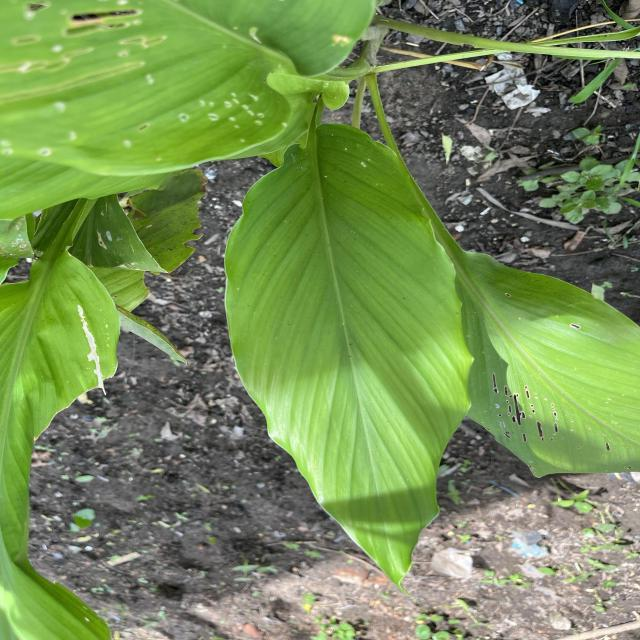Curcuma longa: (220, 119, 487, 605)
